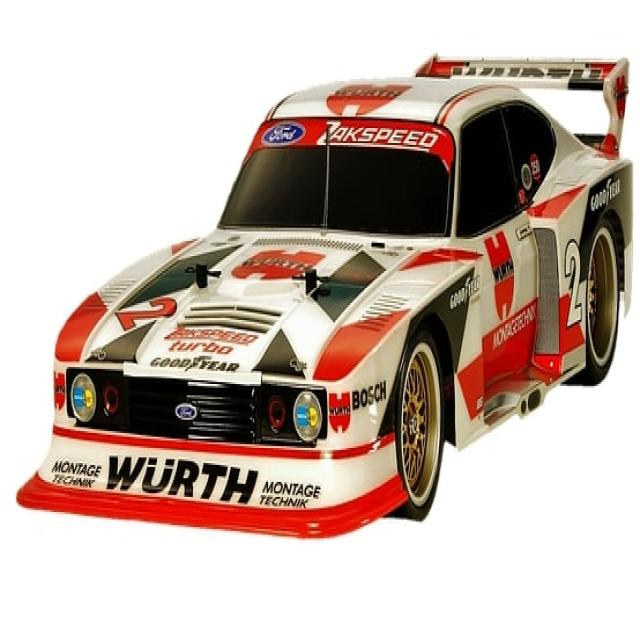Car: (15, 51, 633, 540)
